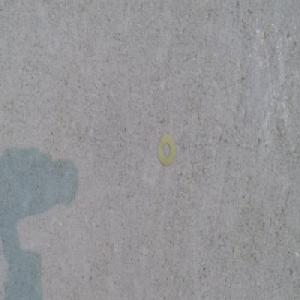Washer: (157, 133, 176, 167)
